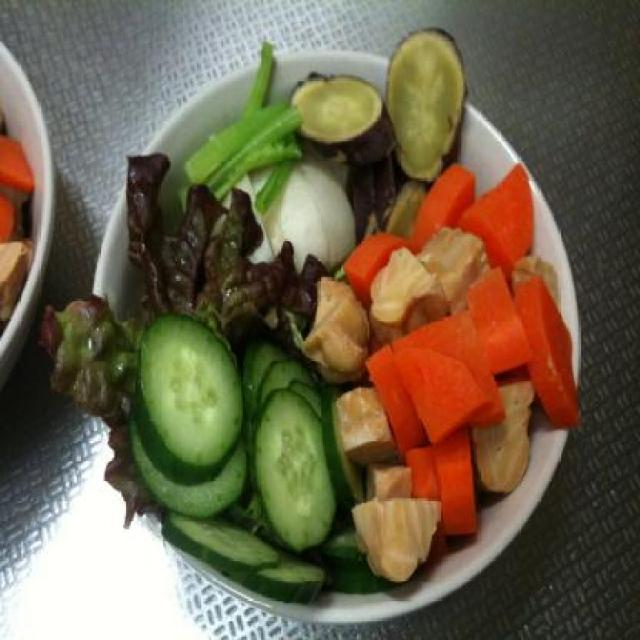Salad: (39, 24, 583, 608), (0, 97, 38, 334)
